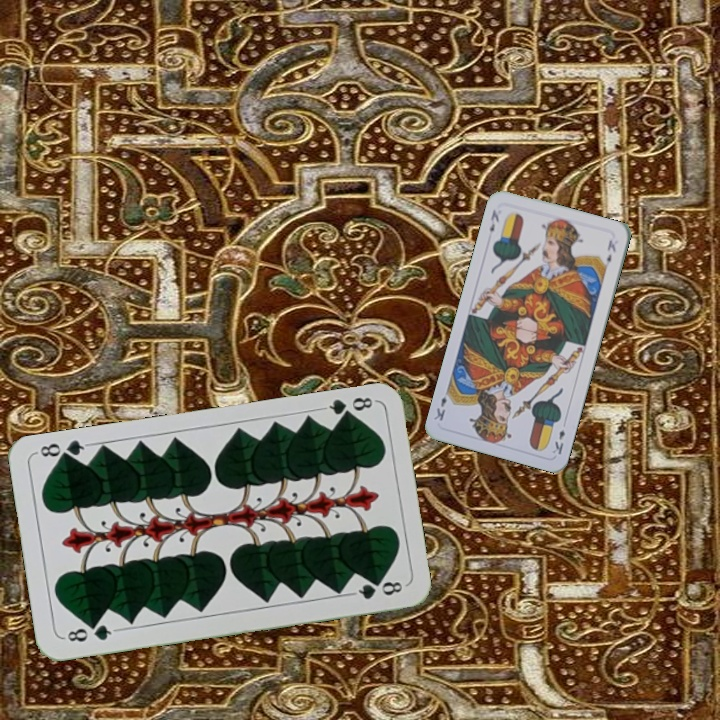EK: (548, 417, 569, 457), (484, 206, 502, 242)
G8: (318, 393, 378, 423), (60, 619, 119, 645)
